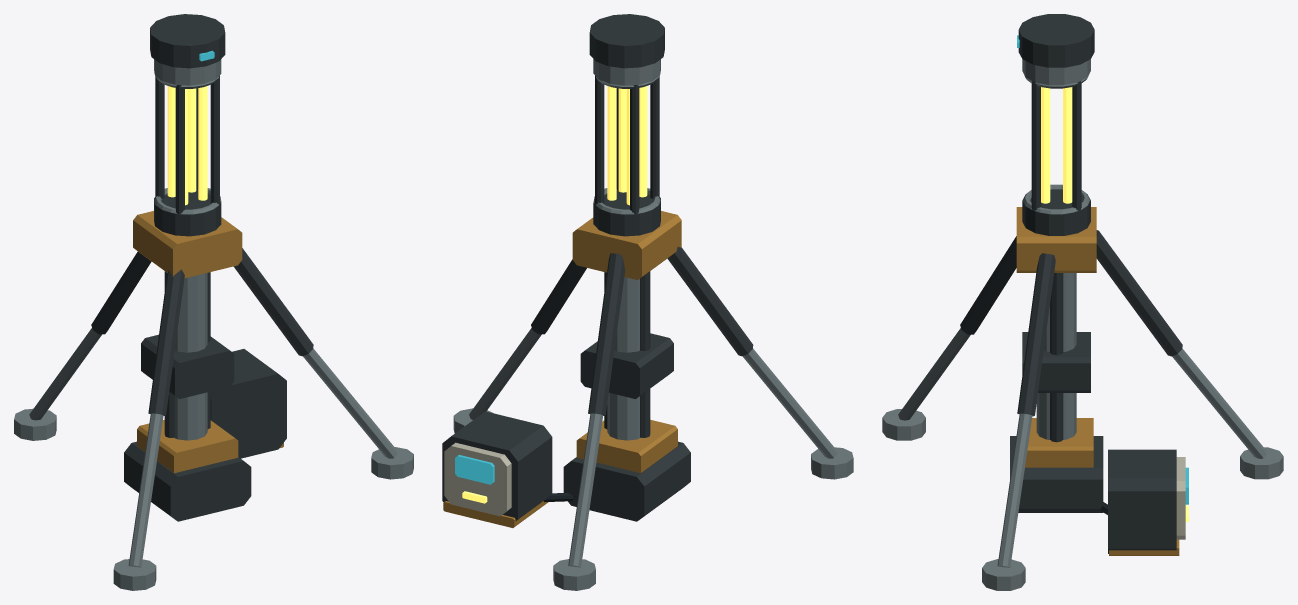
Rendered from resonance_tower_deployed.glb.
3 renders of one model, left to right at view 1: azimuth 30°, elevation 25°; view 2: azimuth 150°, elevation 25°; view 3: azimuth 270°, elevation 25°, orthographic.
Visible parts, largest first — view 1: resonance_tower_deployed; view 2: resonance_tower_deployed; view 3: resonance_tower_deployed.
Boxes of the visible parts, left/top/right/bottom form: resonance_tower_deployed: left=14, top=14, right=413, bottom=590; resonance_tower_deployed: left=442, top=14, right=853, bottom=590; resonance_tower_deployed: left=882, top=14, right=1283, bottom=590.
Bounding box in the file's own units: 2.09 × 2.71 × 2.11.
